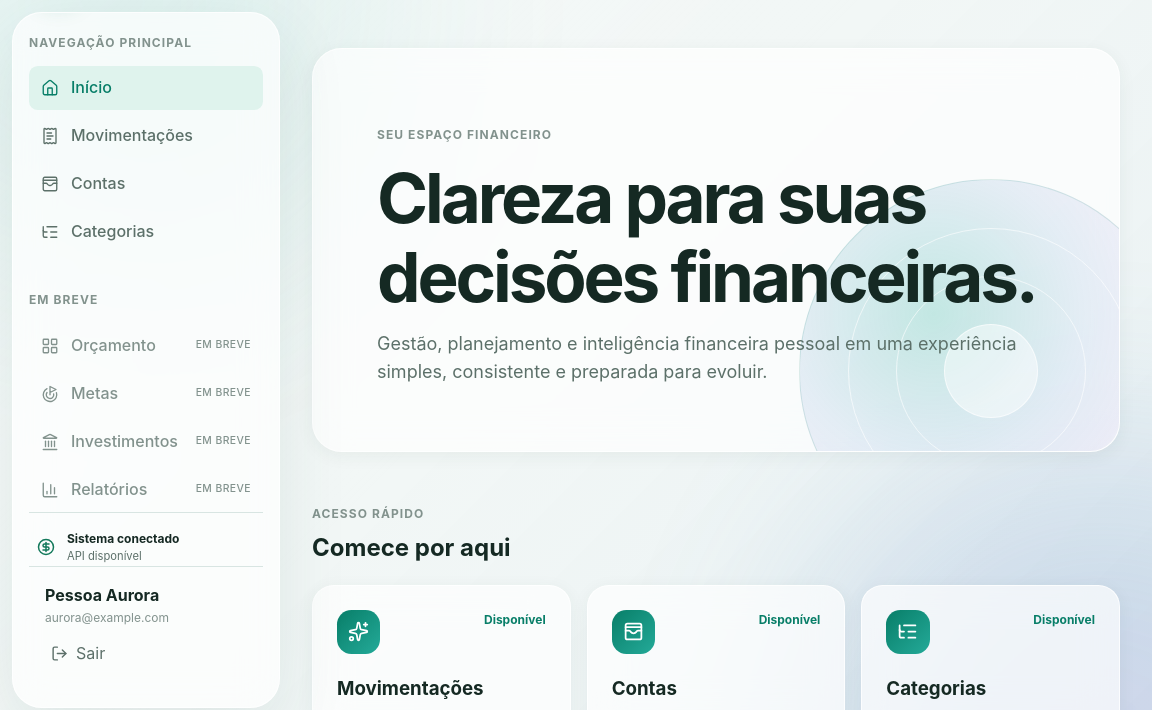
Test: fluxo de autenticação › faz logout no servidor, envia CSRF e volta ao login
(page scrolled)
Step 1. Click the button "Sair" → click(146, 654), box [45,640,247,667]
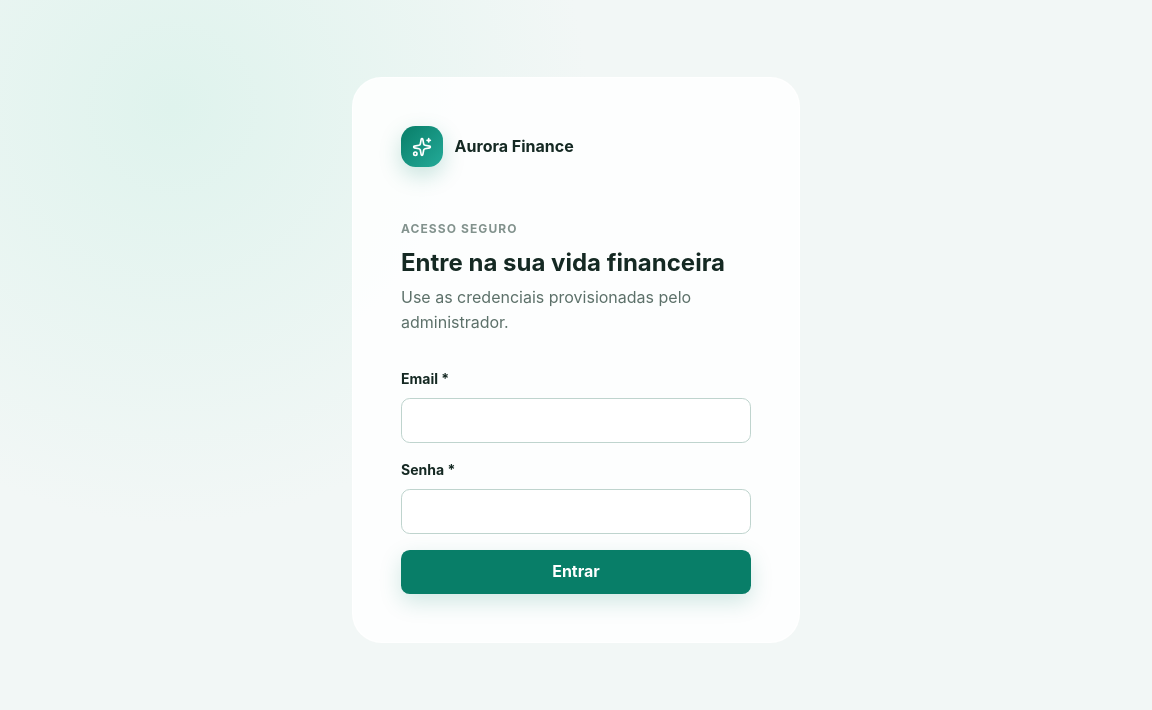
expect the heading "Entre na sua vida financeira" is shown: met, box [401,249,751,277]
